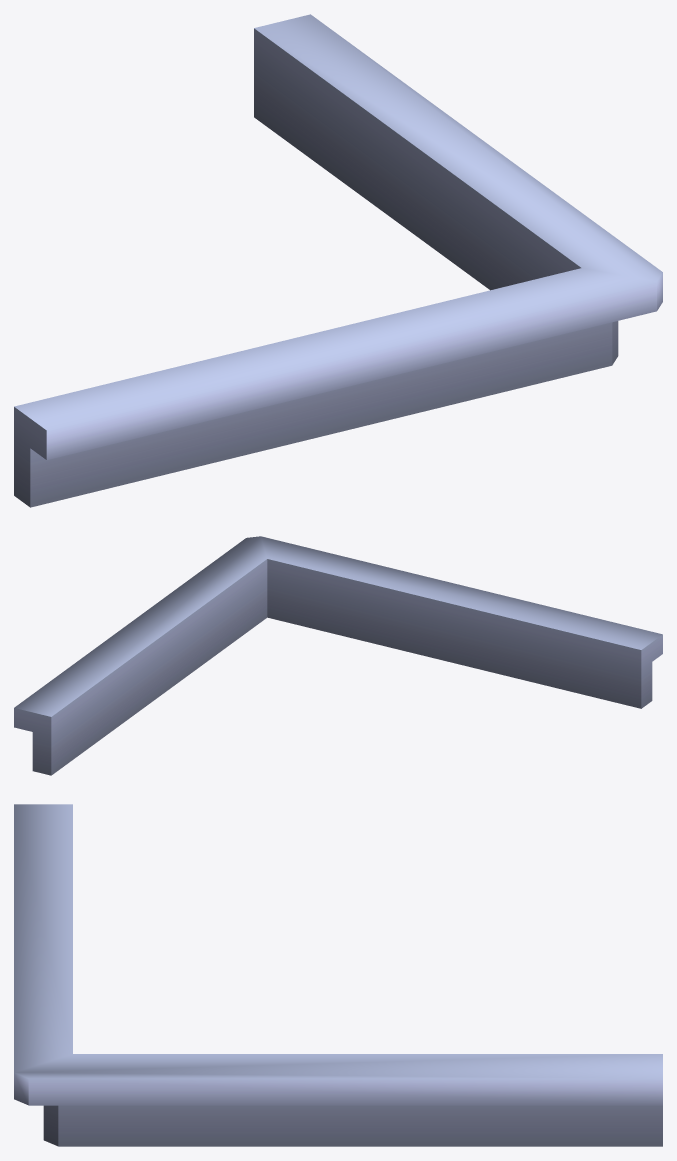
File: kenney-building-border-corner.glb
3 renders of one model, top to bottom at view 1: azimuth 30°, elevation 25°; view 2: azimuth 150°, elevation 25°; view 3: azimuth 270°, elevation 25°, orthographic. The views are drawn at different scales.
Visible parts, largest first — view 1: border-corner; view 2: border-corner; view 3: border-corner.
Boxes of the visible parts, box(x1,y1,x2,y2) form: border-corner: box(14, 14, 662, 507); border-corner: box(14, 536, 662, 775); border-corner: box(14, 804, 662, 1146).
Size of the model in its own units: 2.2 by 0.3 by 2.2.
Materials: 1 (1 with a texture image).
